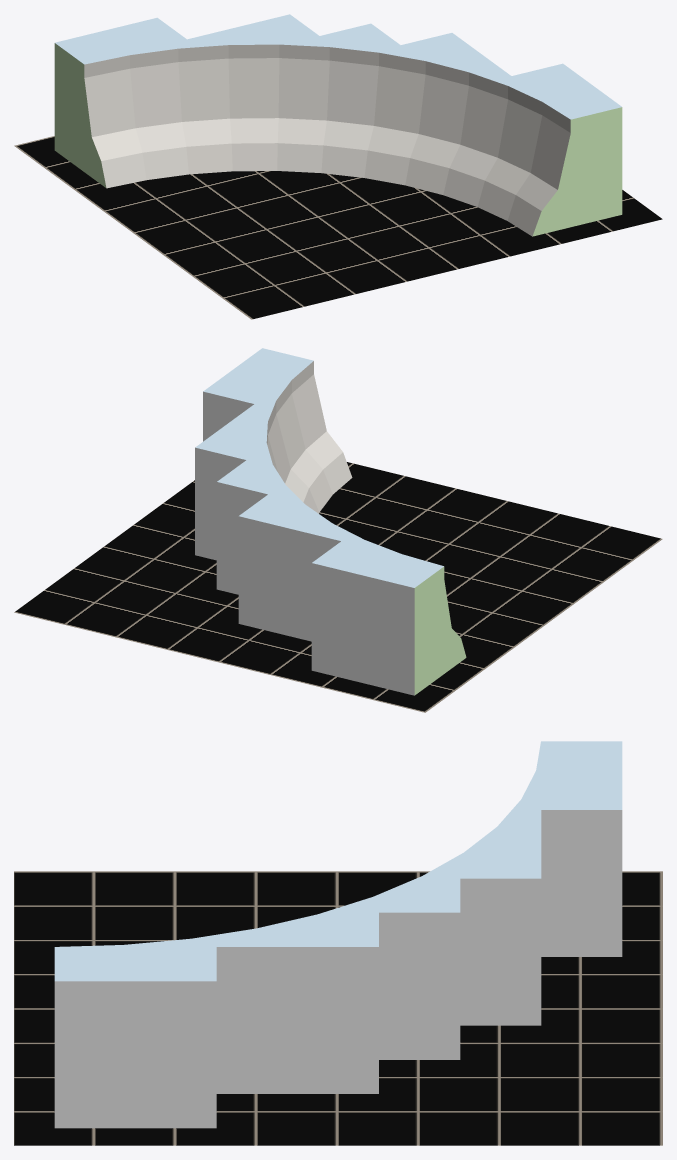
File: Wall_Curve_Inner_7x7_Base.glb
3 renders of one model, top to bottom at view 1: azimuth 30°, elevation 25°; view 2: azimuth 150°, elevation 25°; view 3: azimuth 270°, elevation 25°, orthographic. The views are drawn at different scales.
Parts seen in each view (by area): view 1: Wall_Curve_Inner_7x7_Base, Floor; view 2: Floor, Wall_Curve_Inner_7x7_Base; view 3: Wall_Curve_Inner_7x7_Base, Floor.
Boxes of the visible parts, <box> form: Wall_Curve_Inner_7x7_Base: <box>54,14,622,236</box>; Floor: <box>14,136,662,319</box>; Floor: <box>14,462,662,712</box>; Wall_Curve_Inner_7x7_Base: <box>195,348,466,695</box>; Wall_Curve_Inner_7x7_Base: <box>54,741,622,1128</box>; Floor: <box>14,871,662,1145</box>.
Bounding box in the file's own units: 800 × 200 × 800.
5 materials, 1 textured.
